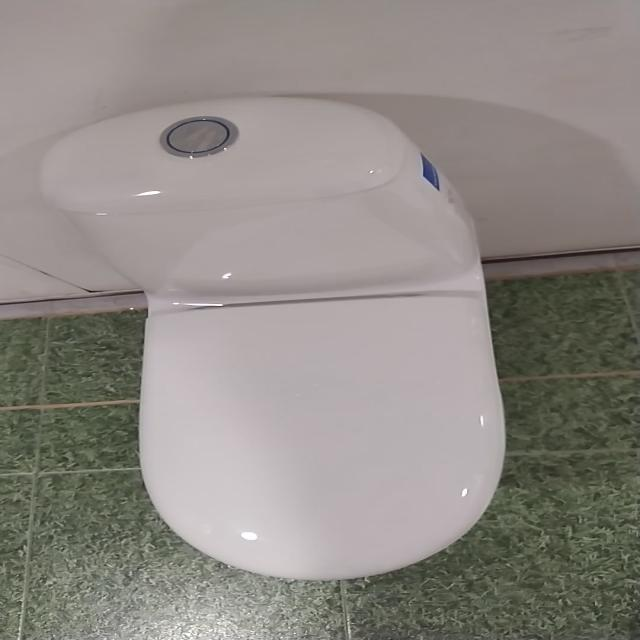toilet: (38, 95, 508, 581)
